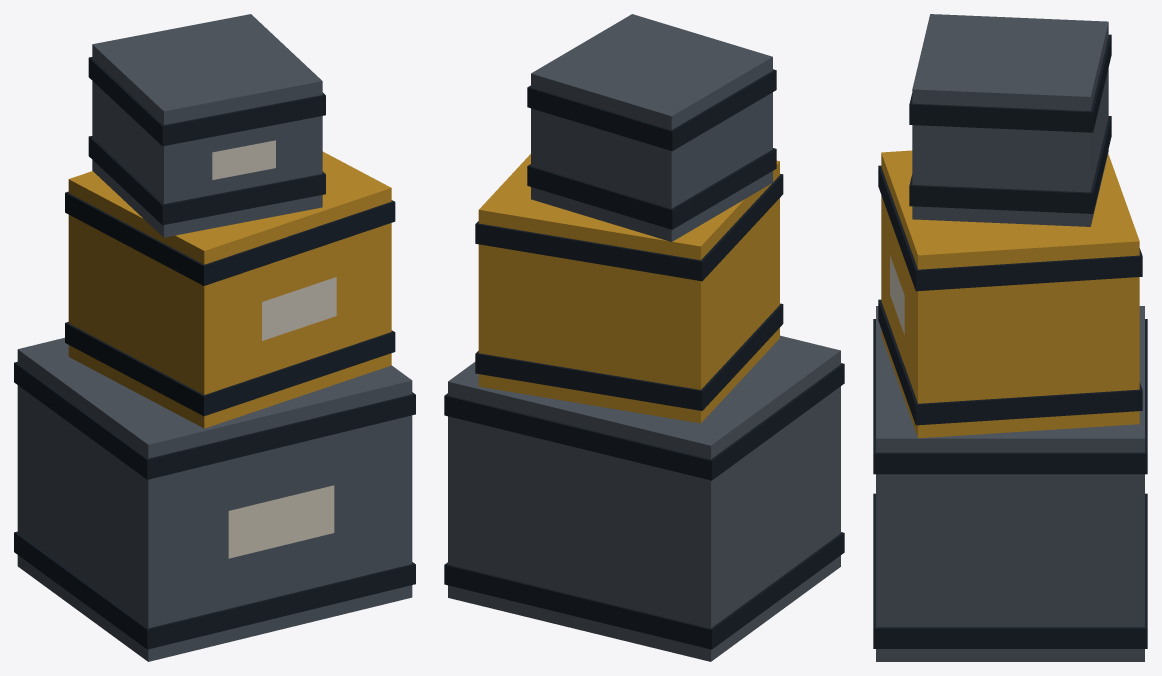
Rendered from caixas_carga_a.glb.
The picture shows the model from 3 angles, left to right: view 1: azimuth 30°, elevation 25°; view 2: azimuth 150°, elevation 25°; view 3: azimuth 270°, elevation 25°; orthographic projection. The views are drawn at different scales.
Parts seen in each view (by area): view 1: caixas_carga_a_malha; view 2: caixas_carga_a_malha; view 3: caixas_carga_a_malha.
Boxes of the visible parts, left/top/right/bottom form: caixas_carga_a_malha: left=14, top=14, right=415, bottom=661; caixas_carga_a_malha: left=444, top=14, right=844, bottom=661; caixas_carga_a_malha: left=873, top=14, right=1147, bottom=661.
Bounding box in the file's own units: 0.7121 × 1.32 × 0.612.
